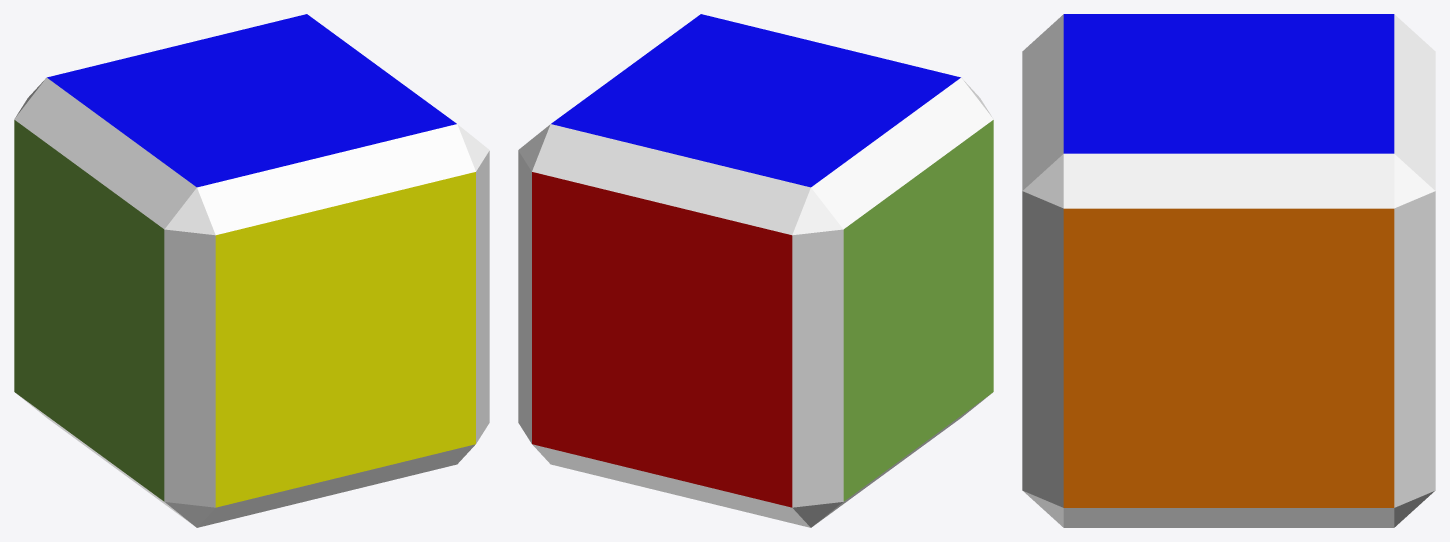
The model's file is props.obj.
The picture shows the model from 3 angles, left to right: view 1: azimuth 30°, elevation 25°; view 2: azimuth 150°, elevation 25°; view 3: azimuth 270°, elevation 25°; orthographic projection. The views are drawn at different scales.
Visible parts, largest first — view 1: Mesh1 Group1 Props2_1 Model; view 2: Mesh1 Group1 Props2_1 Model; view 3: Mesh1 Group1 Props2_1 Model.
Part boxes in pixels (left/top/right/bottom): Mesh1 Group1 Props2_1 Model: left=14, top=14, right=489, bottom=527; Mesh1 Group1 Props2_1 Model: left=518, top=14, right=993, bottom=527; Mesh1 Group1 Props2_1 Model: left=1022, top=14, right=1435, bottom=527.
Size of the model in its own units: 1 by 1 by 1.
